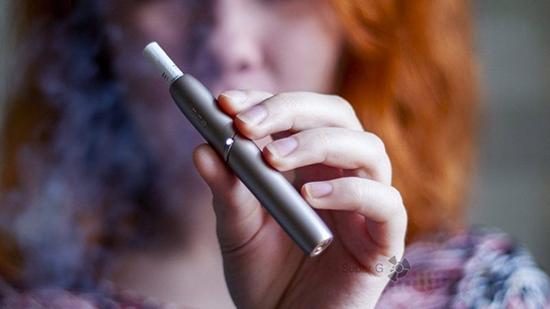iqos: (144, 42, 332, 255)
